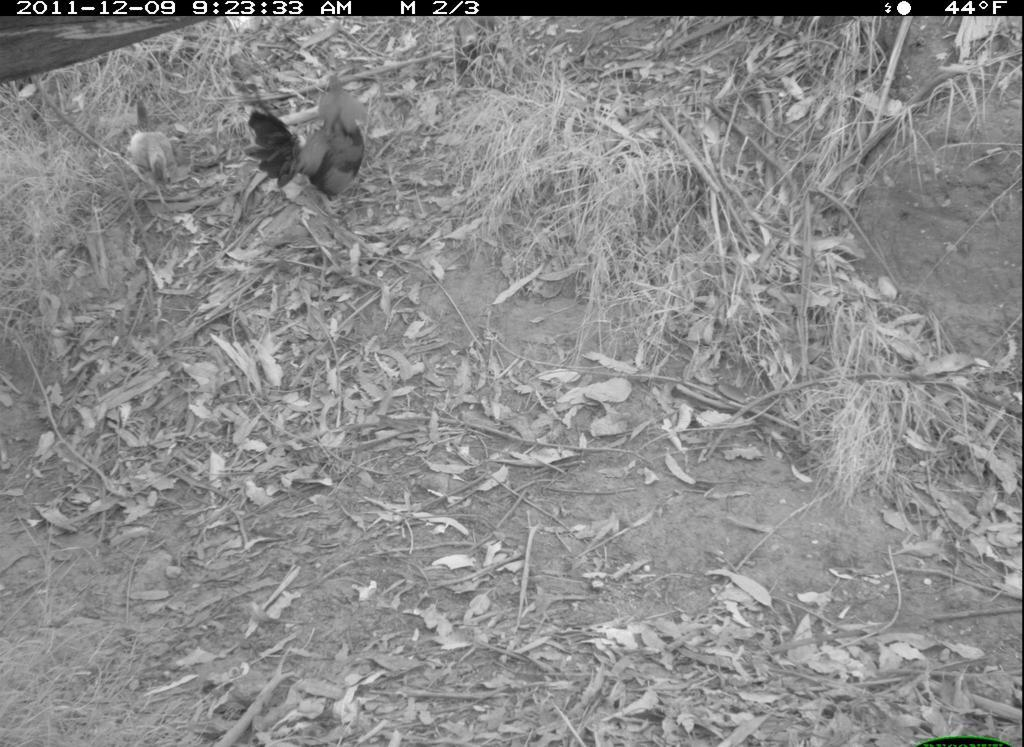bird: (236, 54, 409, 230), (121, 89, 196, 221)
